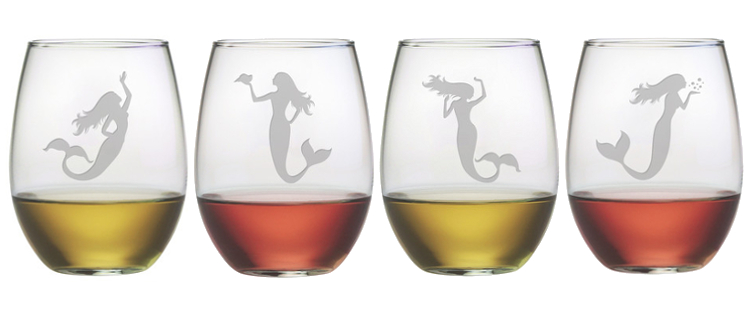Nonrec_Glass: (188, 22, 379, 291), (378, 21, 564, 293), (5, 27, 192, 293), (567, 12, 742, 288)
